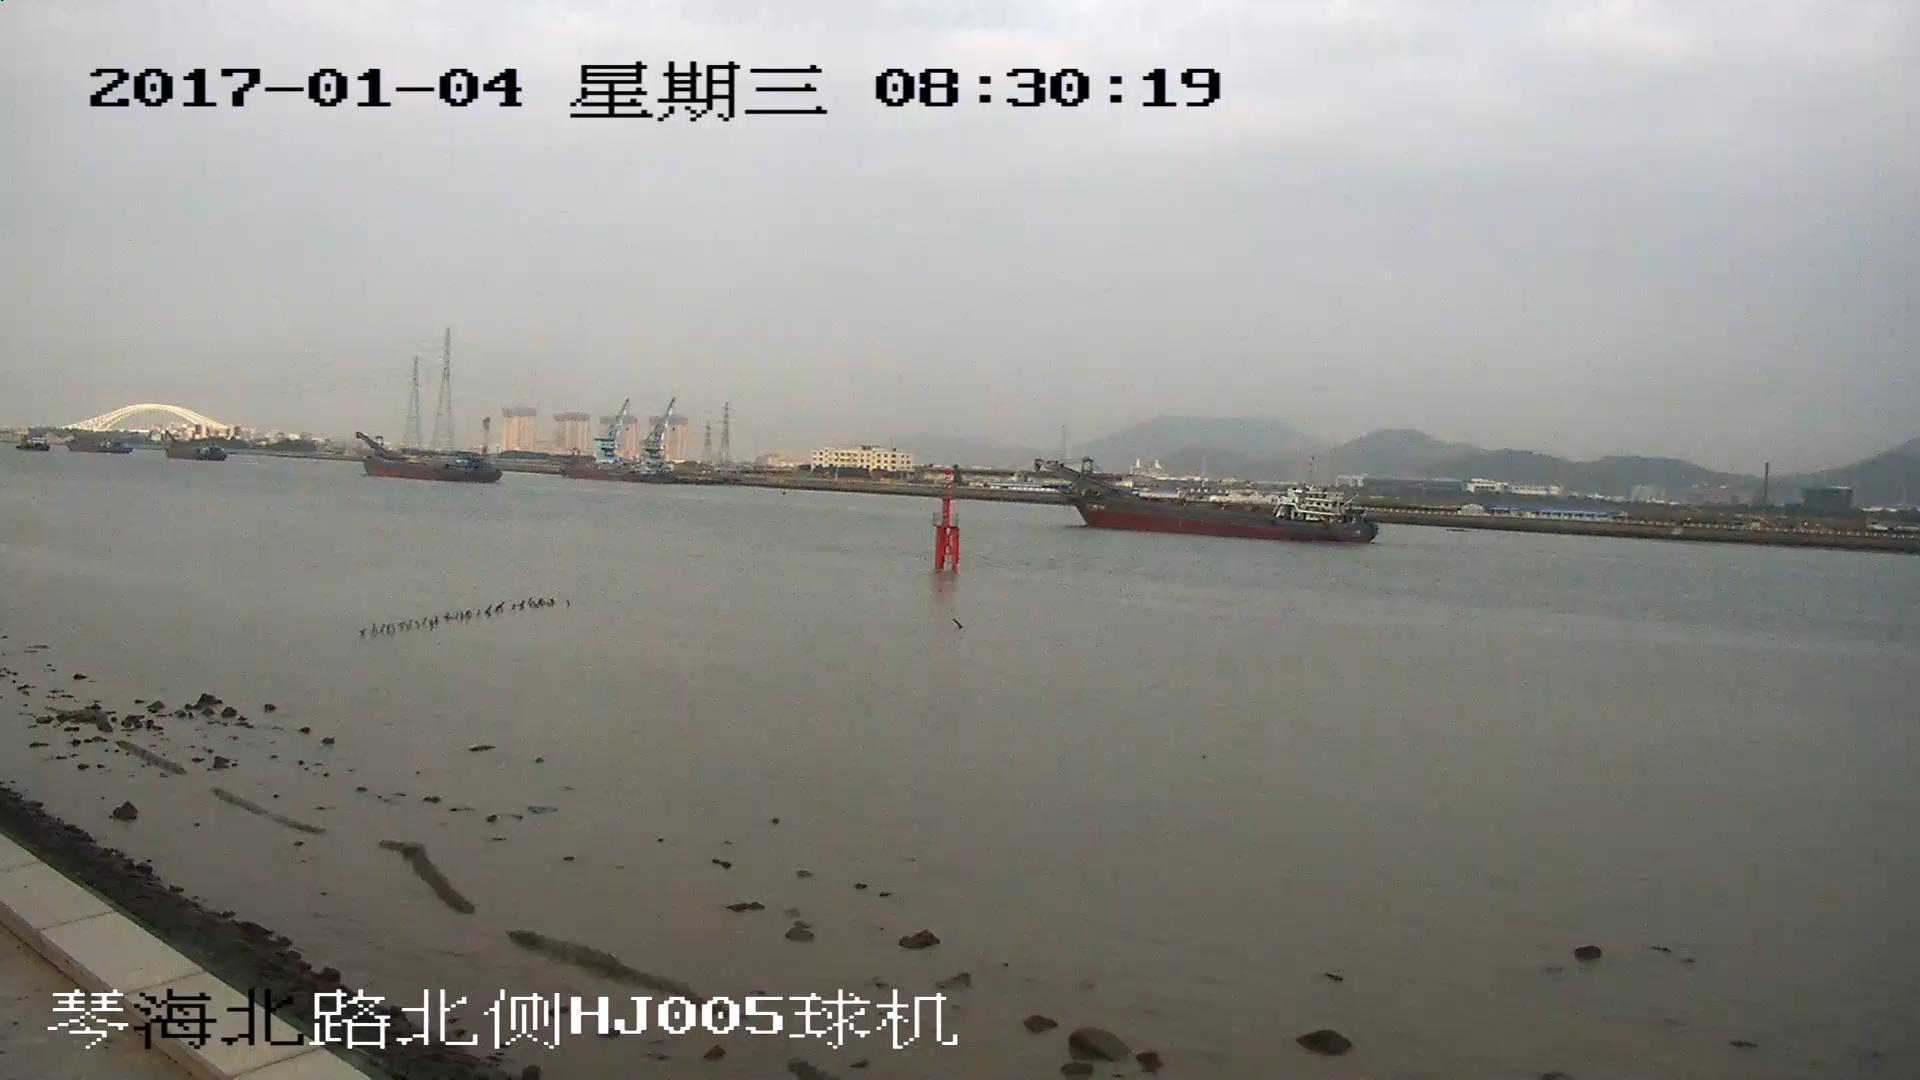bulk cargo carrier: (1042, 463, 1377, 543), (359, 433, 501, 478)
